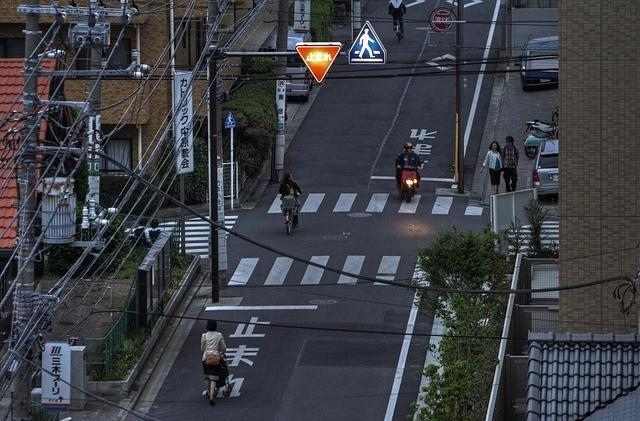bicycle: (285, 205, 296, 234)
car: (518, 36, 558, 86), (532, 138, 559, 200)
motorcycle: (523, 108, 558, 158), (400, 166, 417, 203)
truck: (286, 54, 315, 103)
